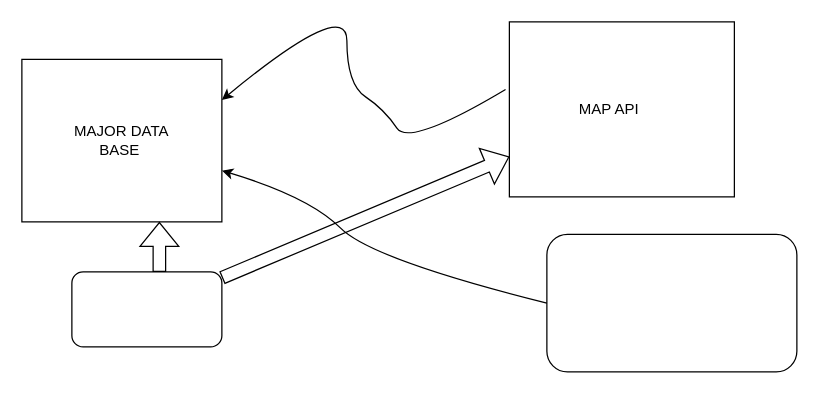
This 819x394 diagram has some shape labels left out. Here are the shapes that lost their labels. From the top down, the box of each, then its label:
(71, 271, 222, 347): FRONTEND DATA
(546, 233, 797, 372): VEHICLES
